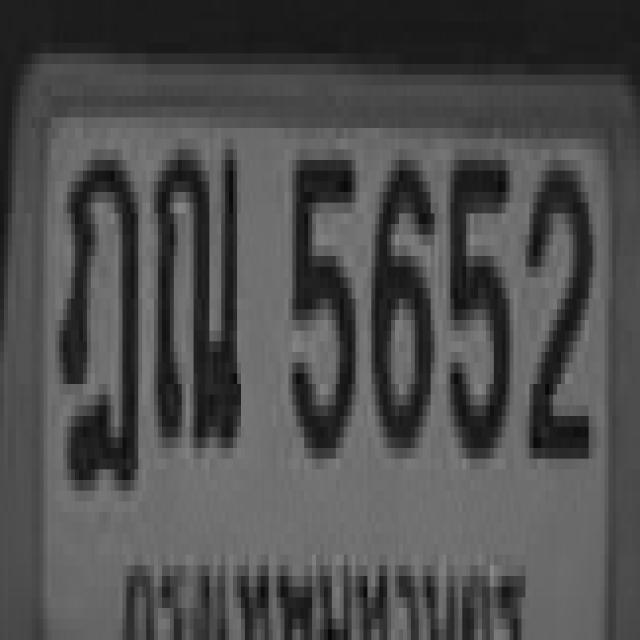2: (526, 149, 588, 448)
23DorChaDa: (56, 149, 134, 480)
28NorNen: (150, 139, 237, 437)
5: (288, 149, 352, 448), (446, 149, 506, 448)
6: (368, 150, 430, 438)
